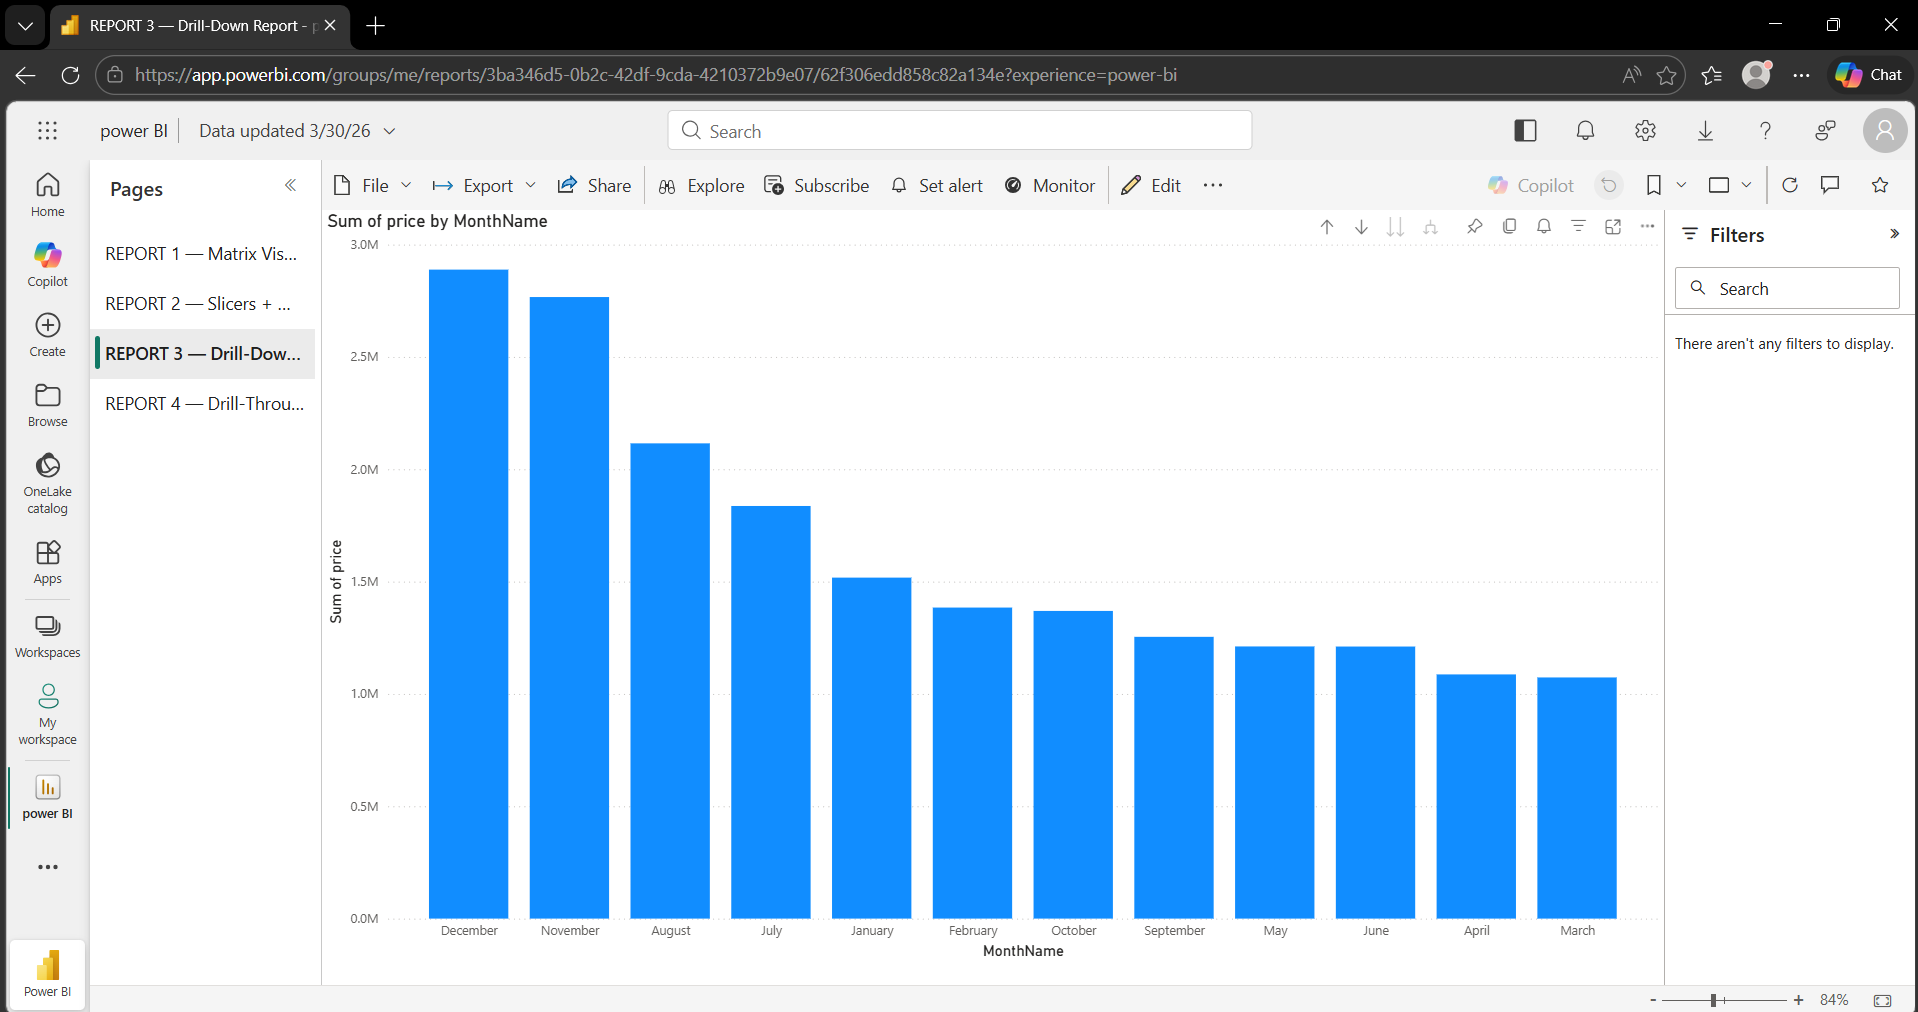

The dashboard page shown, as its layout file describes it:
{"tool":"powerbi","page":{"name":"REPORT 3 — Drill-Down Report","canvas":[1280,720],"ordinal":2},"visuals":[{"type":"clusteredColumnChart","fields":{"Category":["DimDate.CalendarYear","DimDate.CalendarQuarter","DimDate.MonthName"],"Y":["Sum(FactSales.price)"]},"box":[0,0,1280,720],"z":0}]}

Visuals, with their boxes on the page's 1280x720 design canvas (x1, y1, x2, y2). These are canvas units, not pixel positions in the 1918x1012 screenshot, which may show the page scaled, cropped or inside an application window:
clusteredColumnChart - DimDate.CalendarYear x DimDate.CalendarQuarter: [0, 0, 1280, 720]
